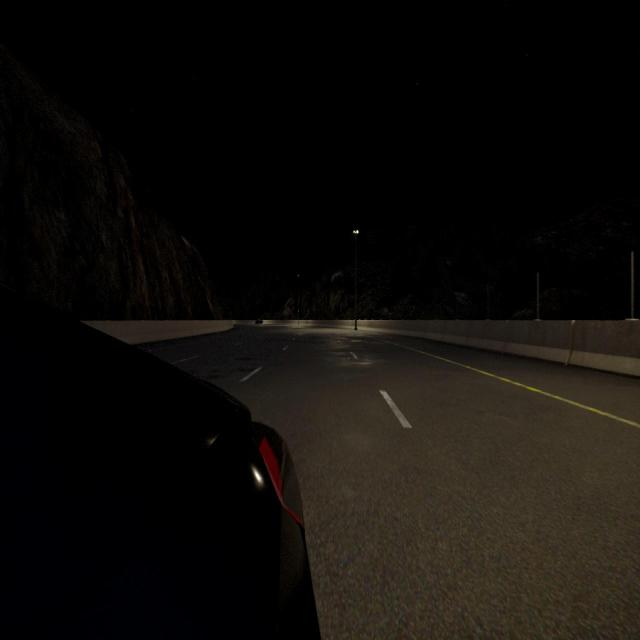Vehicle: (0, 288, 319, 640), (254, 319, 264, 325)
